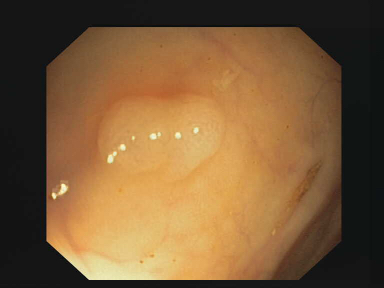polyp: (98, 95, 230, 169)
